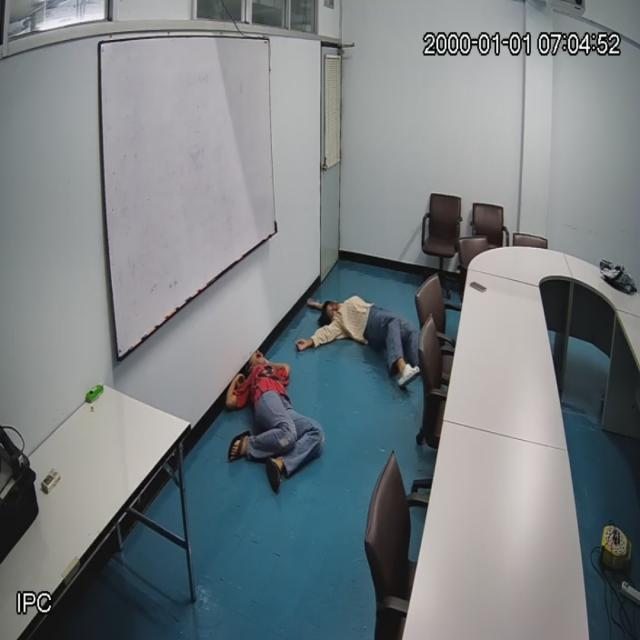fall: (217, 345, 328, 491), (301, 293, 434, 395)
